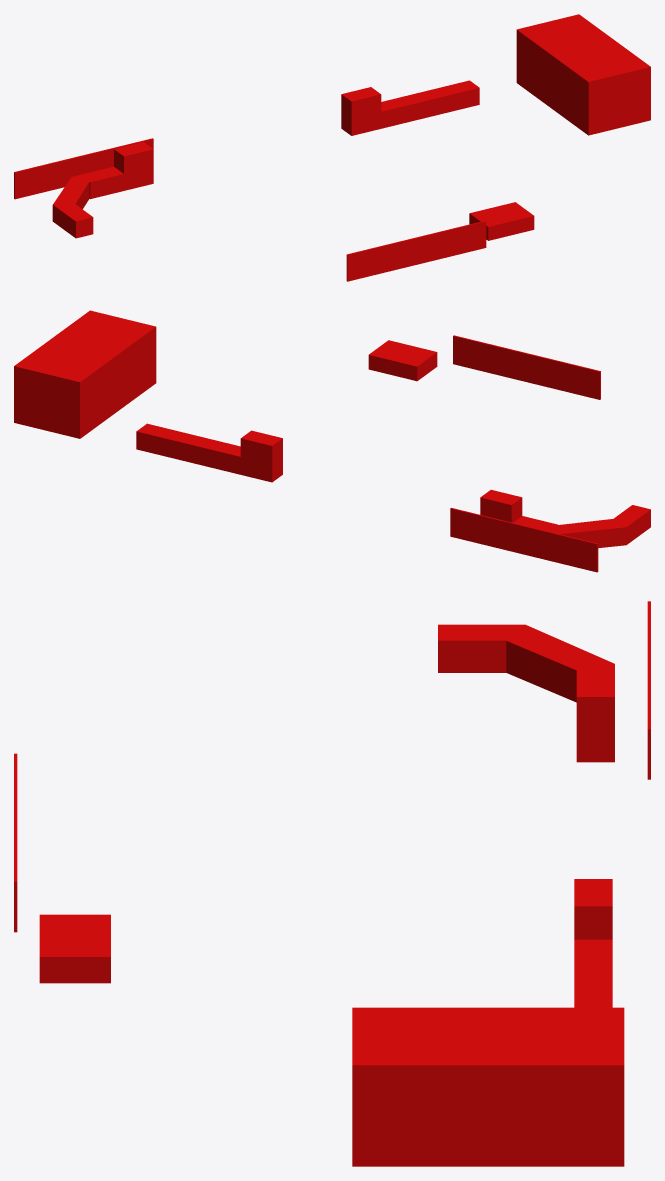
The model's file is SM_Bld_Market_Large_01_Attachments_01_Collision.fbx.
3 renders of one model, top to bottom at view 1: azimuth 30°, elevation 25°; view 2: azimuth 150°, elevation 25°; view 3: azimuth 270°, elevation 25°, orthographic. The views are drawn at different scales.
Parts seen in each view (by area): view 1: SM_Bld_Market_Large_01_Attachments_01_Collision; view 2: SM_Bld_Market_Large_01_Attachments_01_Collision; view 3: SM_Bld_Market_Large_01_Attachments_01_Collision.
Boxes of the visible parts, box(x1,y1,x2,y2) form: SM_Bld_Market_Large_01_Attachments_01_Collision: box(14, 14, 650, 281); SM_Bld_Market_Large_01_Attachments_01_Collision: box(14, 310, 650, 572); SM_Bld_Market_Large_01_Attachments_01_Collision: box(14, 601, 650, 1166).
Bounding box in the file's own units: 2760 × 254 × 1442.
